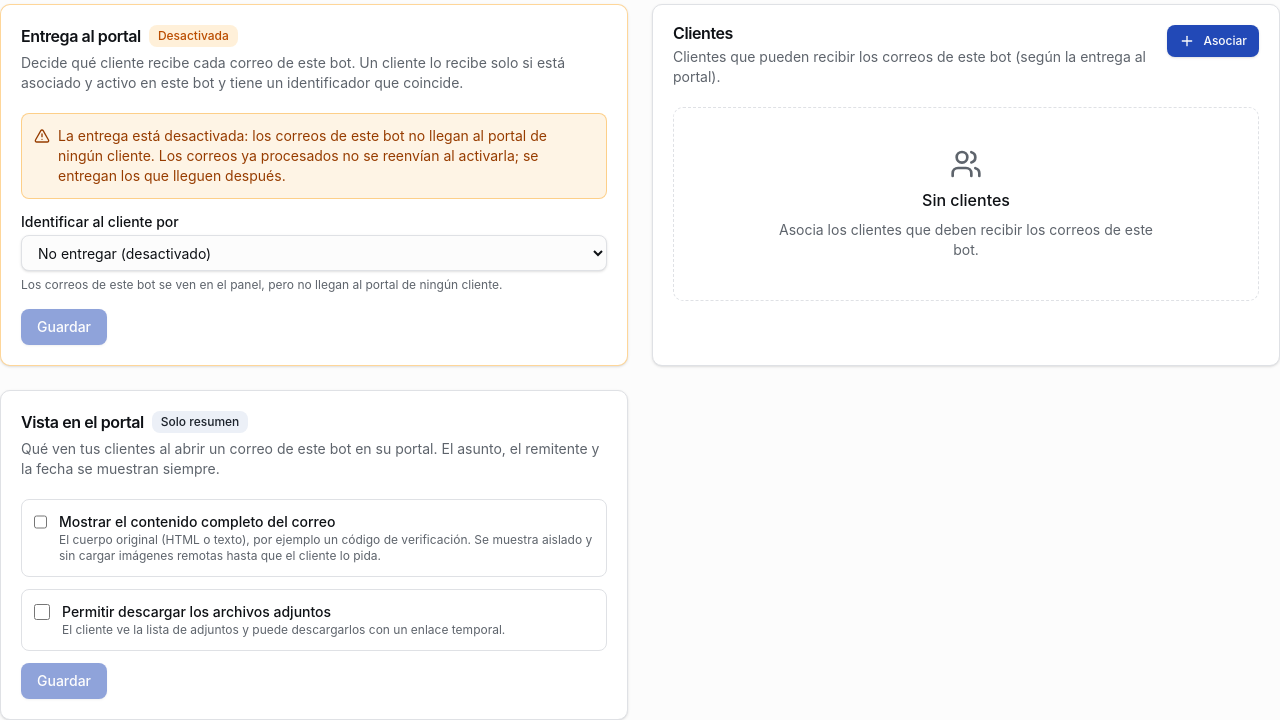
bot page: what the customer portal shows (portal_settings) › by default the content is not shared; an admin enables it and the configured fields are kept
The image size is (1280, 720).
(page scrolled)
Expected: the text "Solo resumen" is shown, left=152, top=411, right=248, bottom=433
Expected: the button with aria-label "Guardar vista en el portal" is disabled, left=21, top=663, right=107, bottom=699
Click the checkbox labelled "Mostrar el contenido completo del correo" at (40, 522), box left=34, top=514, right=47, bottom=530
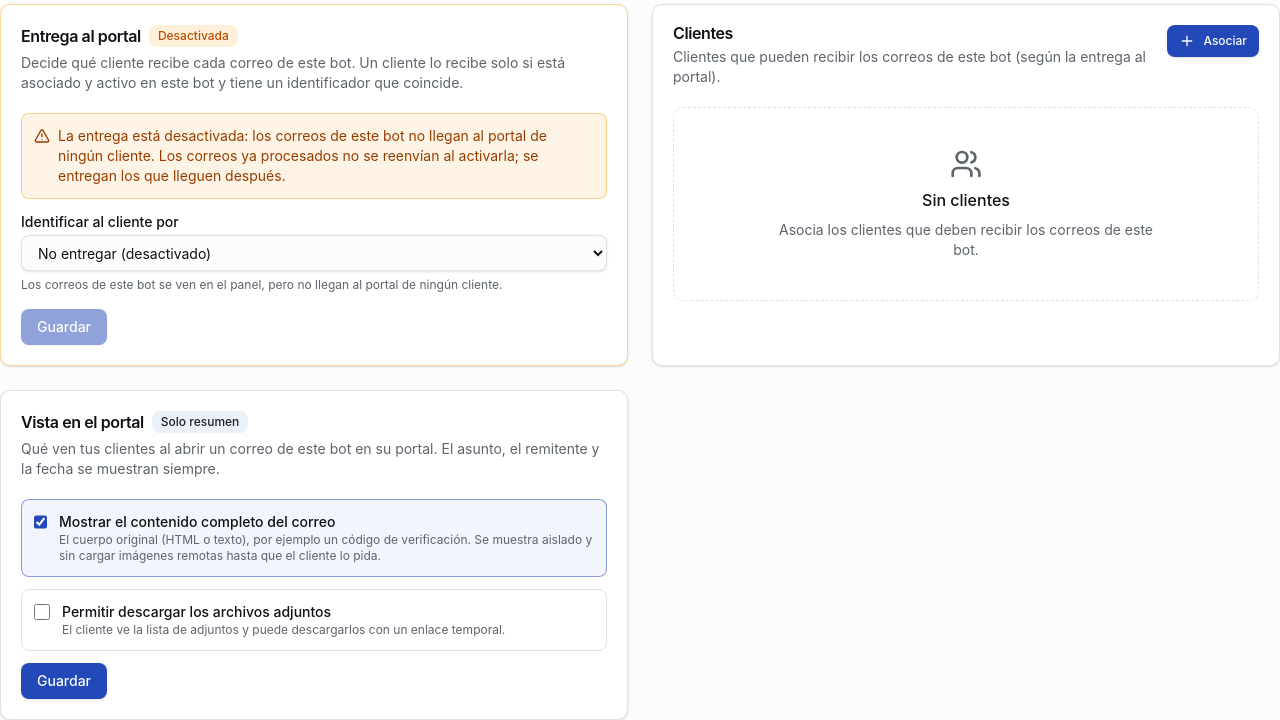
Click the button with aria-label "Guardar vista en el portal" at (64, 681), box left=21, top=663, right=107, bottom=699
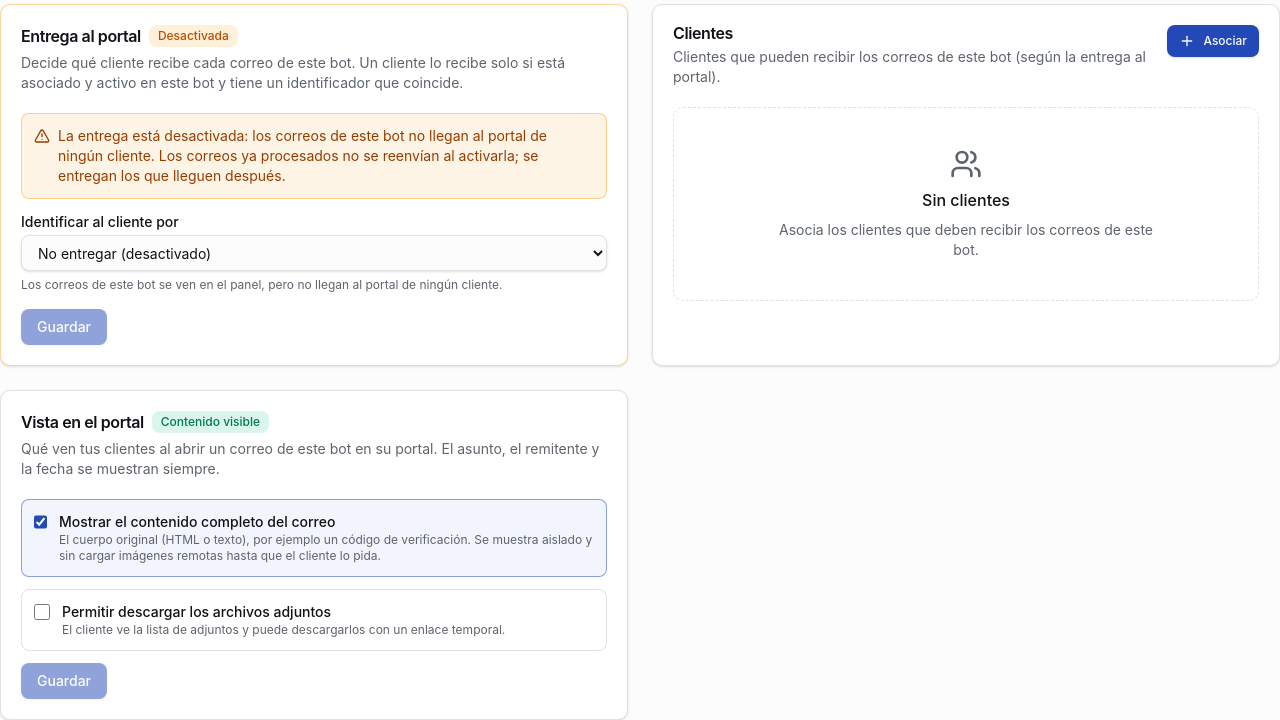
Result: the checkbox labelled "Mostrar el contenido completo del correo" is checked at left=34, top=514, right=47, bottom=530
Result: the text "Contenido visible" is shown at left=152, top=411, right=269, bottom=433
